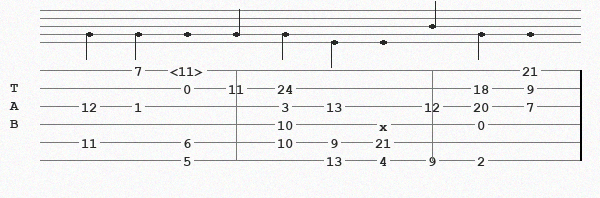0: (183, 82, 195, 95), (477, 118, 489, 131)
1: (134, 100, 146, 113)
10: (277, 136, 297, 149), (277, 118, 297, 131)
11: (81, 136, 101, 149), (228, 82, 248, 95)
12: (81, 100, 101, 113), (424, 100, 444, 113)
13: (326, 100, 346, 113), (326, 154, 346, 167)
18: (473, 82, 493, 95)
2: (477, 154, 489, 167)
20: (473, 100, 493, 113)
21: (375, 136, 395, 149), (522, 64, 542, 77)
24: (277, 82, 297, 95)
3: (281, 100, 293, 113)
4: (379, 154, 391, 167)
5: (183, 154, 195, 167)
6: (183, 136, 195, 149)
7: (134, 64, 146, 77), (526, 100, 538, 113)
9: (330, 136, 342, 149), (428, 154, 440, 167), (526, 82, 538, 95)
harmonic: (170, 64, 208, 77)
x: (379, 119, 392, 129)
